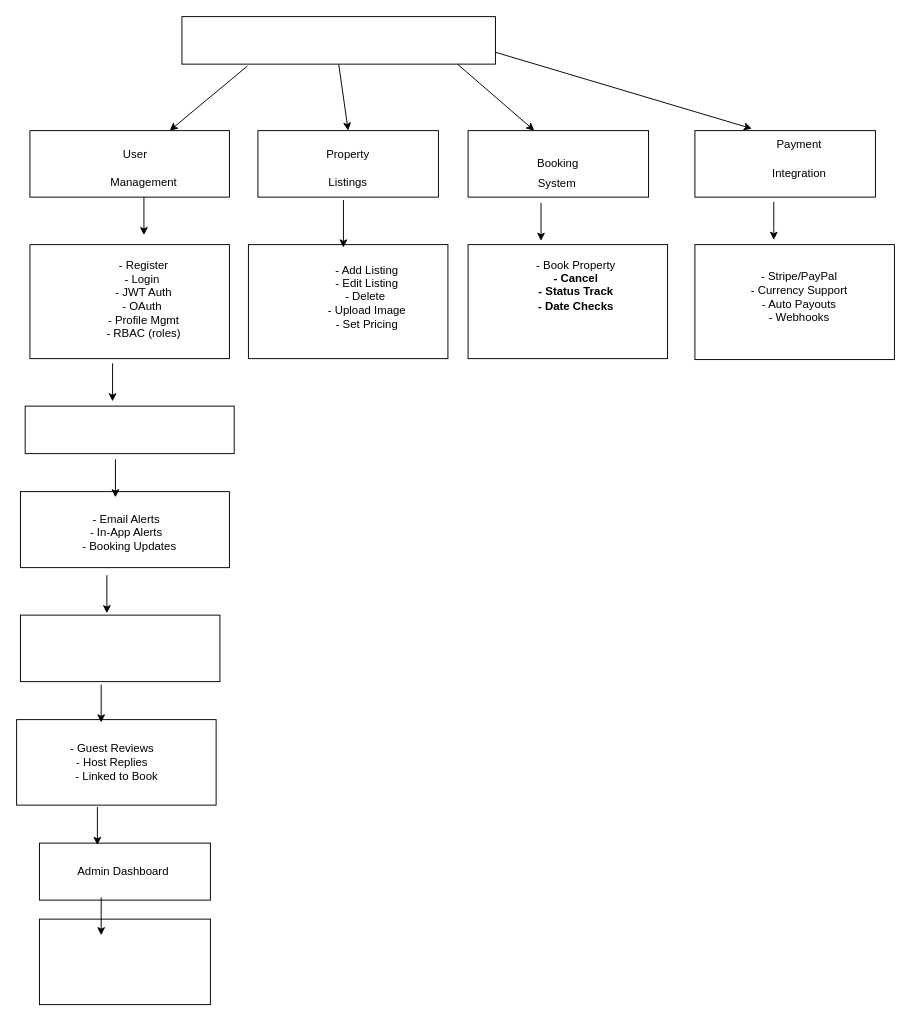
The diagram is 911 pixels wide and 1021 high, and some of its shapes have lost their labels. The centre of each missing label's shape, as x and y in pixels:
- User Mgmt - Booking Oversight - Listing Moderation - Payment Logs: [124,961]
Airbnb Clone Backend: [338,40]
Notifications: [129,429]
Reviews & Ratings: [119,648]
